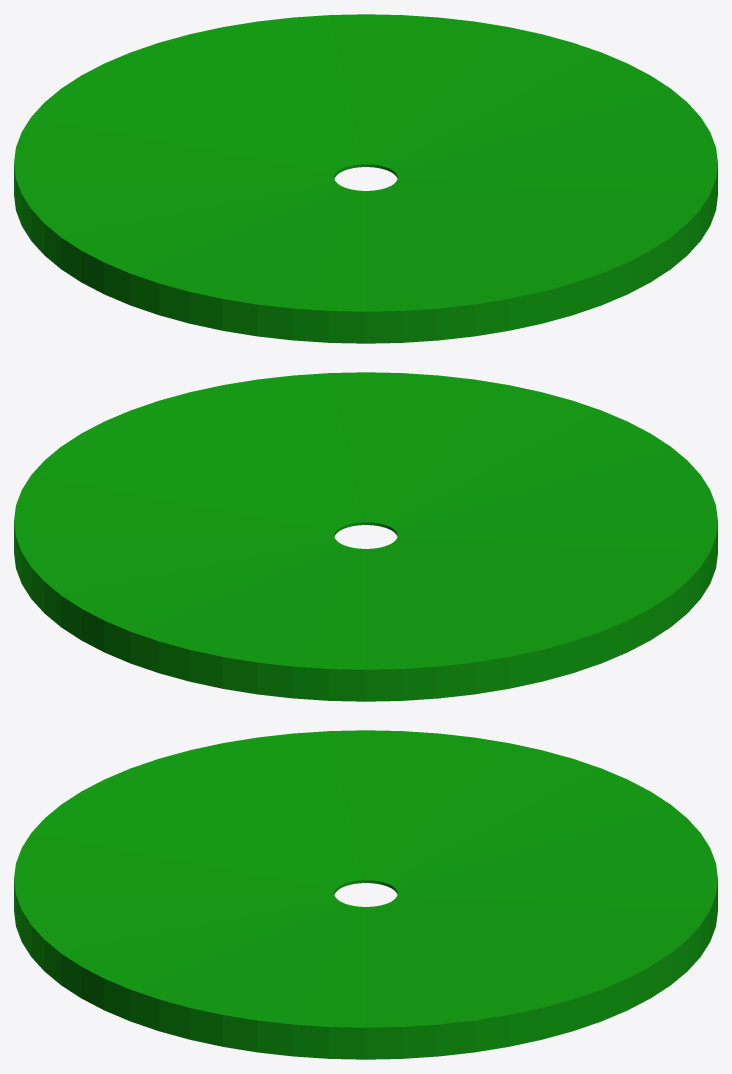
File: donutmap.obj
3 views of the same model, one above another, from view 1: azimuth 30°, elevation 25°; view 2: azimuth 150°, elevation 25°; view 3: azimuth 270°, elevation 25° (orthographic).
Parts seen in each view (by area): view 1: Cylinder_Cylinder.001; view 2: Cylinder_Cylinder.001; view 3: Cylinder_Cylinder.001.
Part boxes in pixels (<box>): Cylinder_Cylinder.001: <box>14,14,717,343</box>; Cylinder_Cylinder.001: <box>14,372,717,701</box>; Cylinder_Cylinder.001: <box>14,730,717,1059</box>.
Bounding box in the file's own units: 6 × 0.3 × 6.
